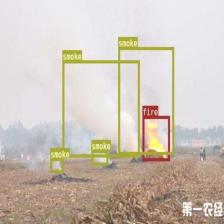fire: (142, 116, 170, 160)
smoke: (62, 60, 139, 156), (118, 46, 174, 154), (91, 149, 108, 165), (50, 158, 63, 172)
